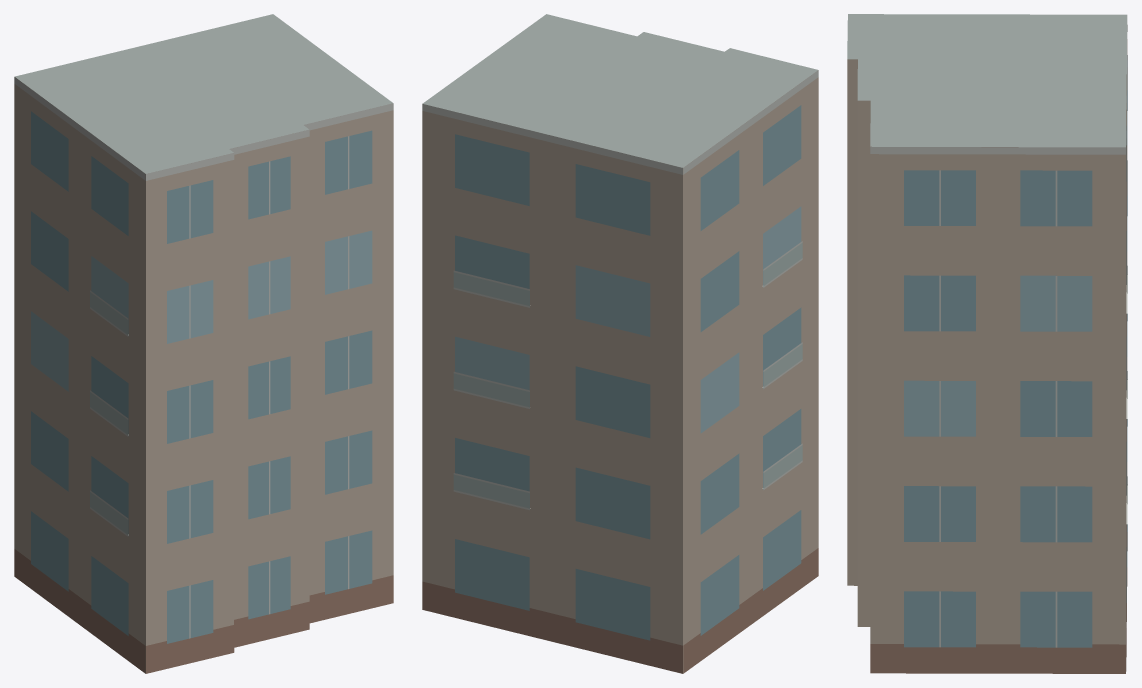
File: survey-upis-32520497.glb
3 renders of one model, left to right at view 1: azimuth 30°, elevation 25°; view 2: azimuth 150°, elevation 25°; view 3: azimuth 270°, elevation 25°, orthographic. The views are drawn at different scales.
Visible parts, largest first — view 1: survey-upis-32520497.tmp; view 2: survey-upis-32520497.tmp; view 3: survey-upis-32520497.tmp.
Part boxes in pixels (x1,y1,x2,y2): survey-upis-32520497.tmp: (14,14,393,673); survey-upis-32520497.tmp: (422,14,818,673); survey-upis-32520497.tmp: (847,14,1127,673).
Bounding box in the file's own units: 9.53 × 17.47 × 8.45.
